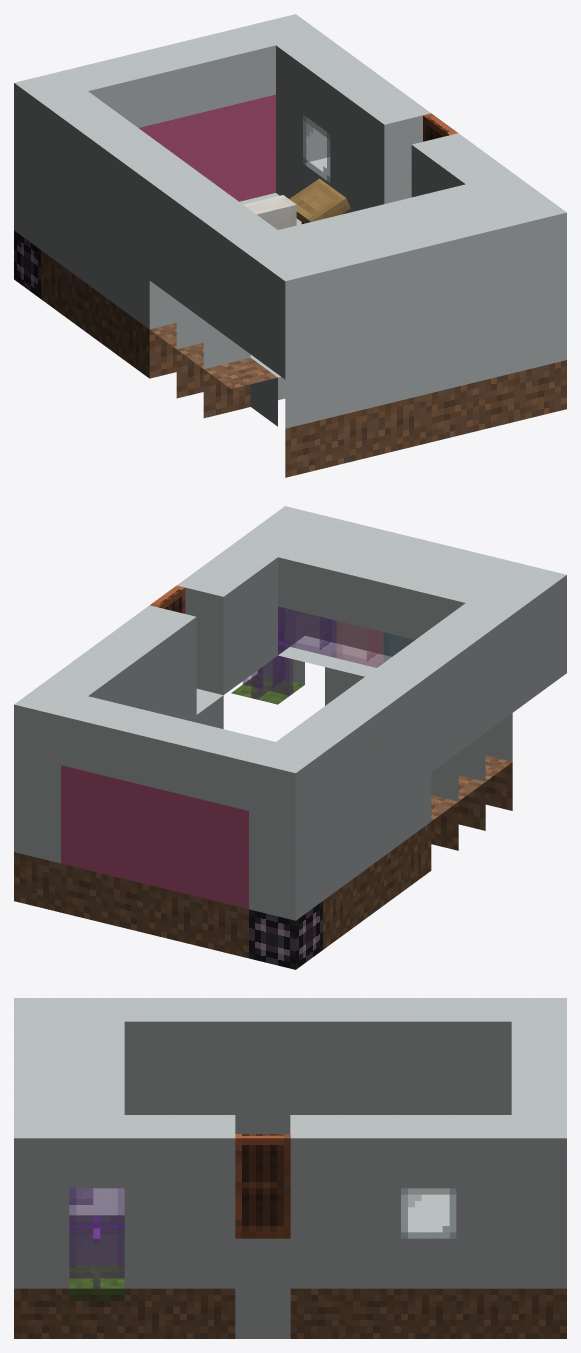
File: Maquete_Nathalia de Oliveira Gonçalves.glb
3 views of the same model, one above another, from view 1: azimuth 30°, elevation 25°; view 2: azimuth 150°, elevation 25°; view 3: azimuth 270°, elevation 25° (orthographic).
Parts seen in each view (by area): view 1: node_3, node_5, node_4, node_2; view 2: node_5, node_3, node_1, node_2; view 3: node_5, node_3, node_2, node_1, node_4.
Part boxes in pixels (<box>): node_3: <box>149,133,566,477</box>; node_5: <box>14,14,430,378</box>; node_4: <box>303,114,330,182</box>; node_2: <box>423,113,457,141</box>; node_5: <box>14,605,431,969</box>; node_3: <box>177,506,566,850</box>; node_1: <box>242,606,414,699</box>; node_2: <box>150,585,185,613</box>; node_5: <box>290,998,566,1338</box>; node_3: <box>14,998,290,1338</box>; node_2: <box>235,1134,290,1238</box>; node_1: <box>69,1188,124,1288</box>; node_4: <box>401,1188,456,1238</box>.
Bounding box in the file's own units: 6 × 4 × 10.
3 materials, 3 textured.
